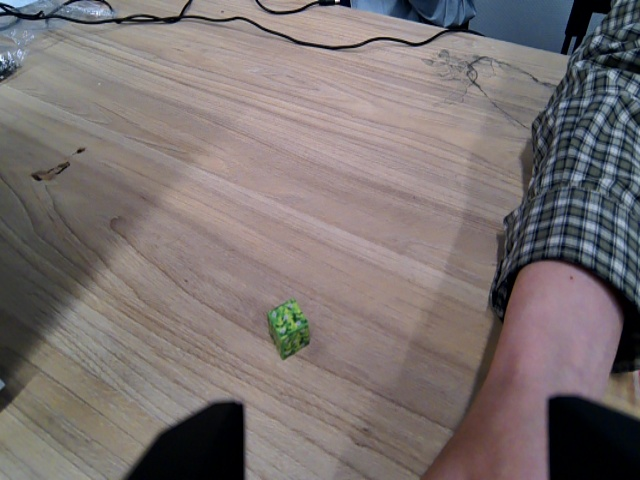grass: (266, 296, 312, 359)
